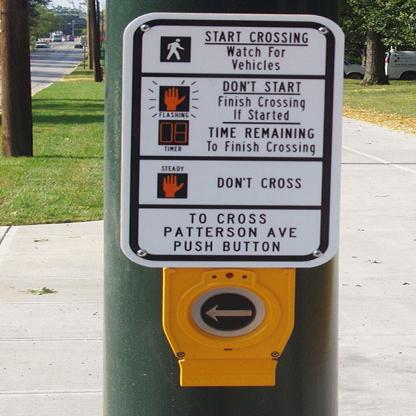Don-t Walk: (159, 174, 188, 198)
Walk: (161, 36, 190, 62)
